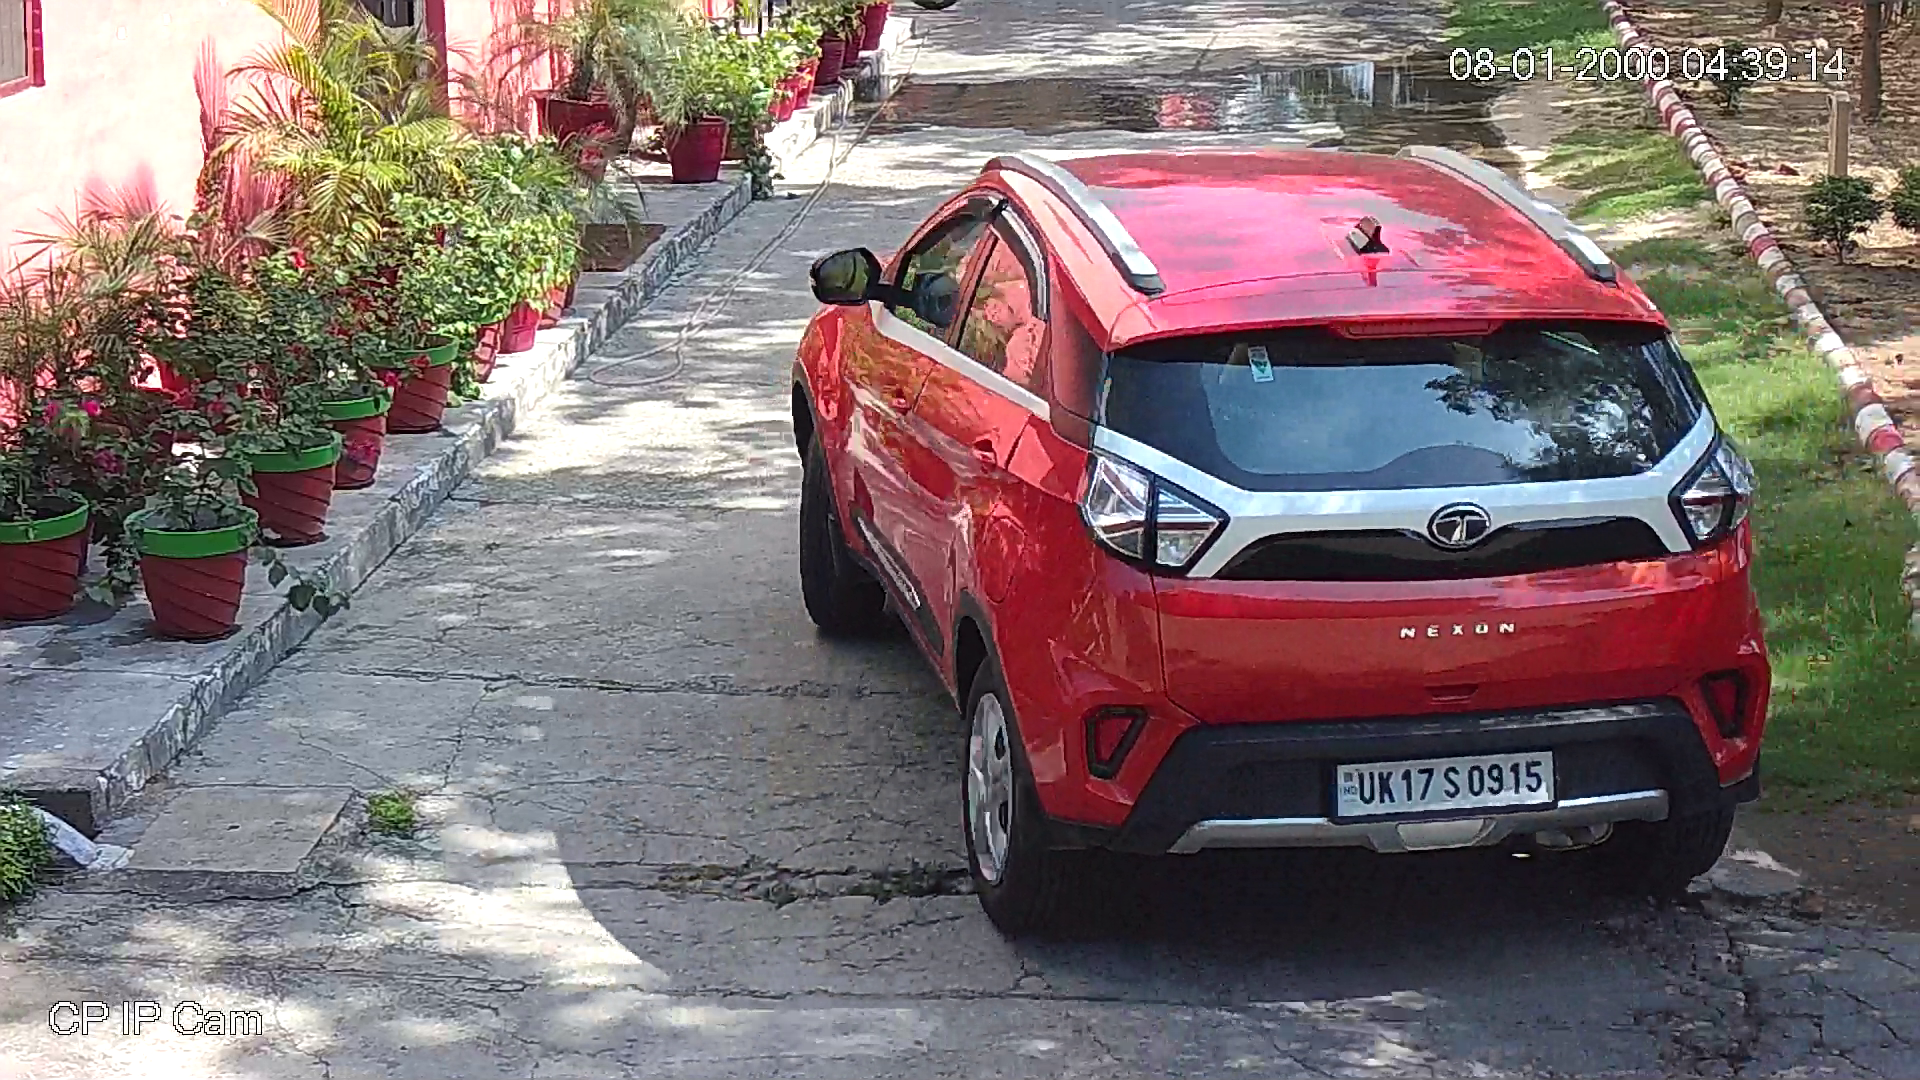plate: (1334, 749, 1557, 816)
